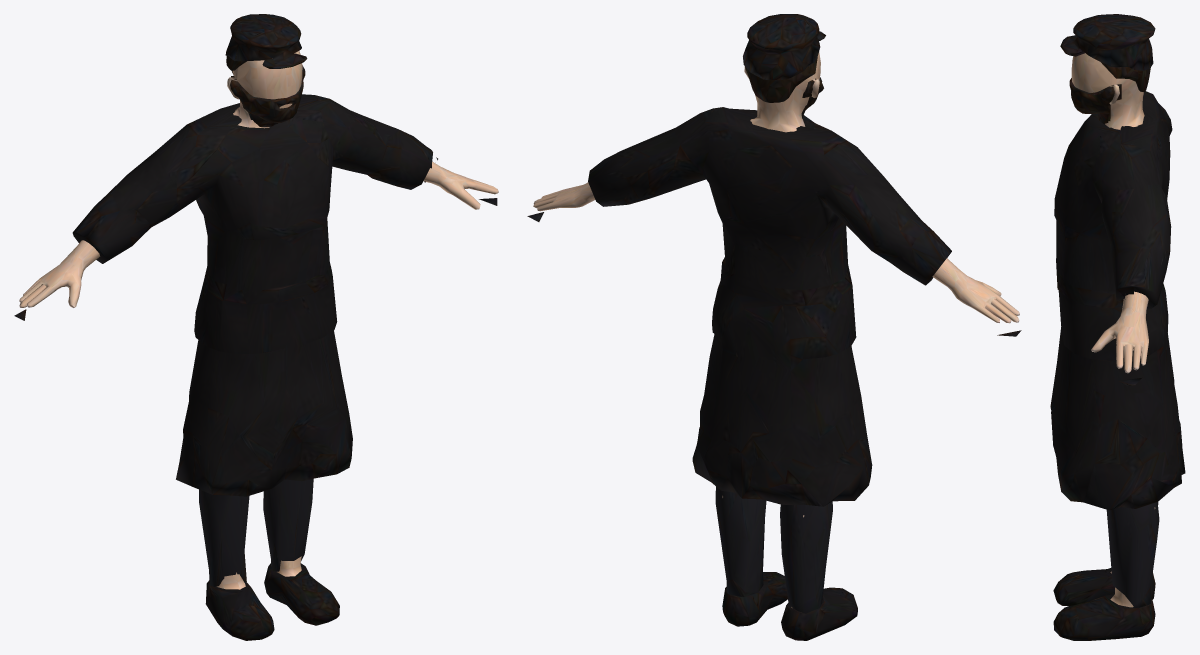
The model's file is npc_x_bandit3.glb.
The picture shows the model from 3 angles, left to right: view 1: azimuth 30°, elevation 25°; view 2: azimuth 150°, elevation 25°; view 3: azimuth 270°, elevation 25°; orthographic projection.
Visible parts, largest first — view 1: Human; view 2: Human; view 3: Human.
Boxes of the visible parts, <box> form: Human: <box>14,14,498,640</box>; Human: <box>527,14,1021,640</box>; Human: <box>1050,14,1185,640</box>.
Bounding box in the file's own units: 1.58 × 1.85 × 0.3798.
1 material, 1 textured.
